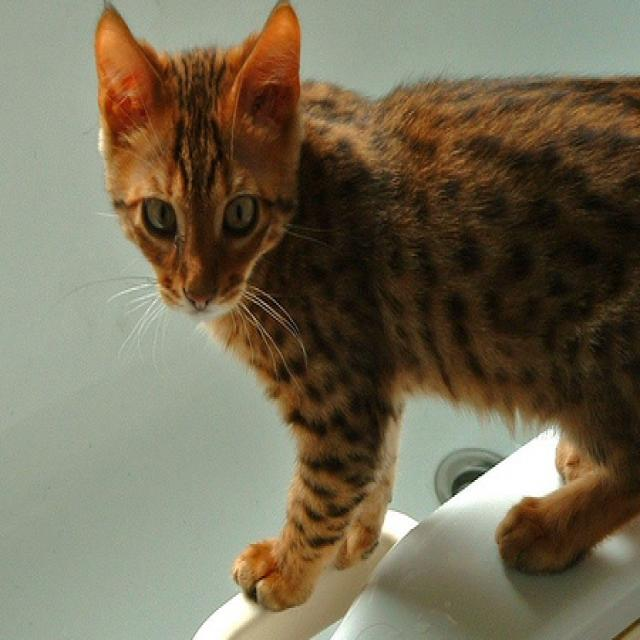Bengal: (89, 0, 640, 613)
